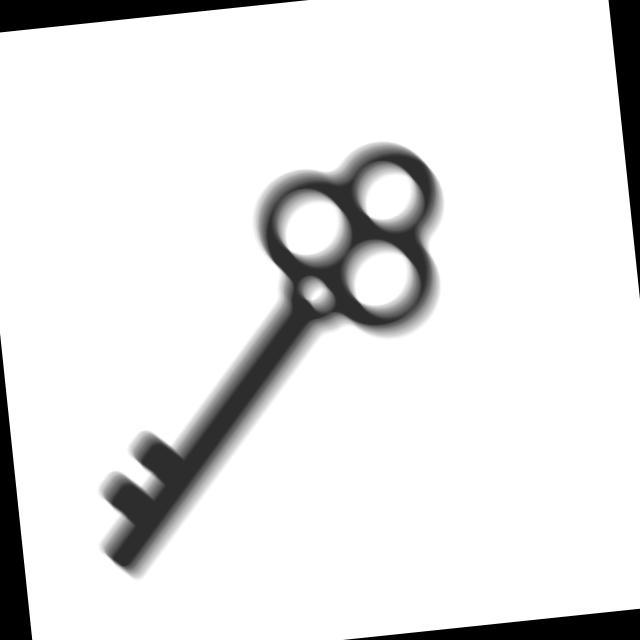key: (51, 130, 489, 595)
